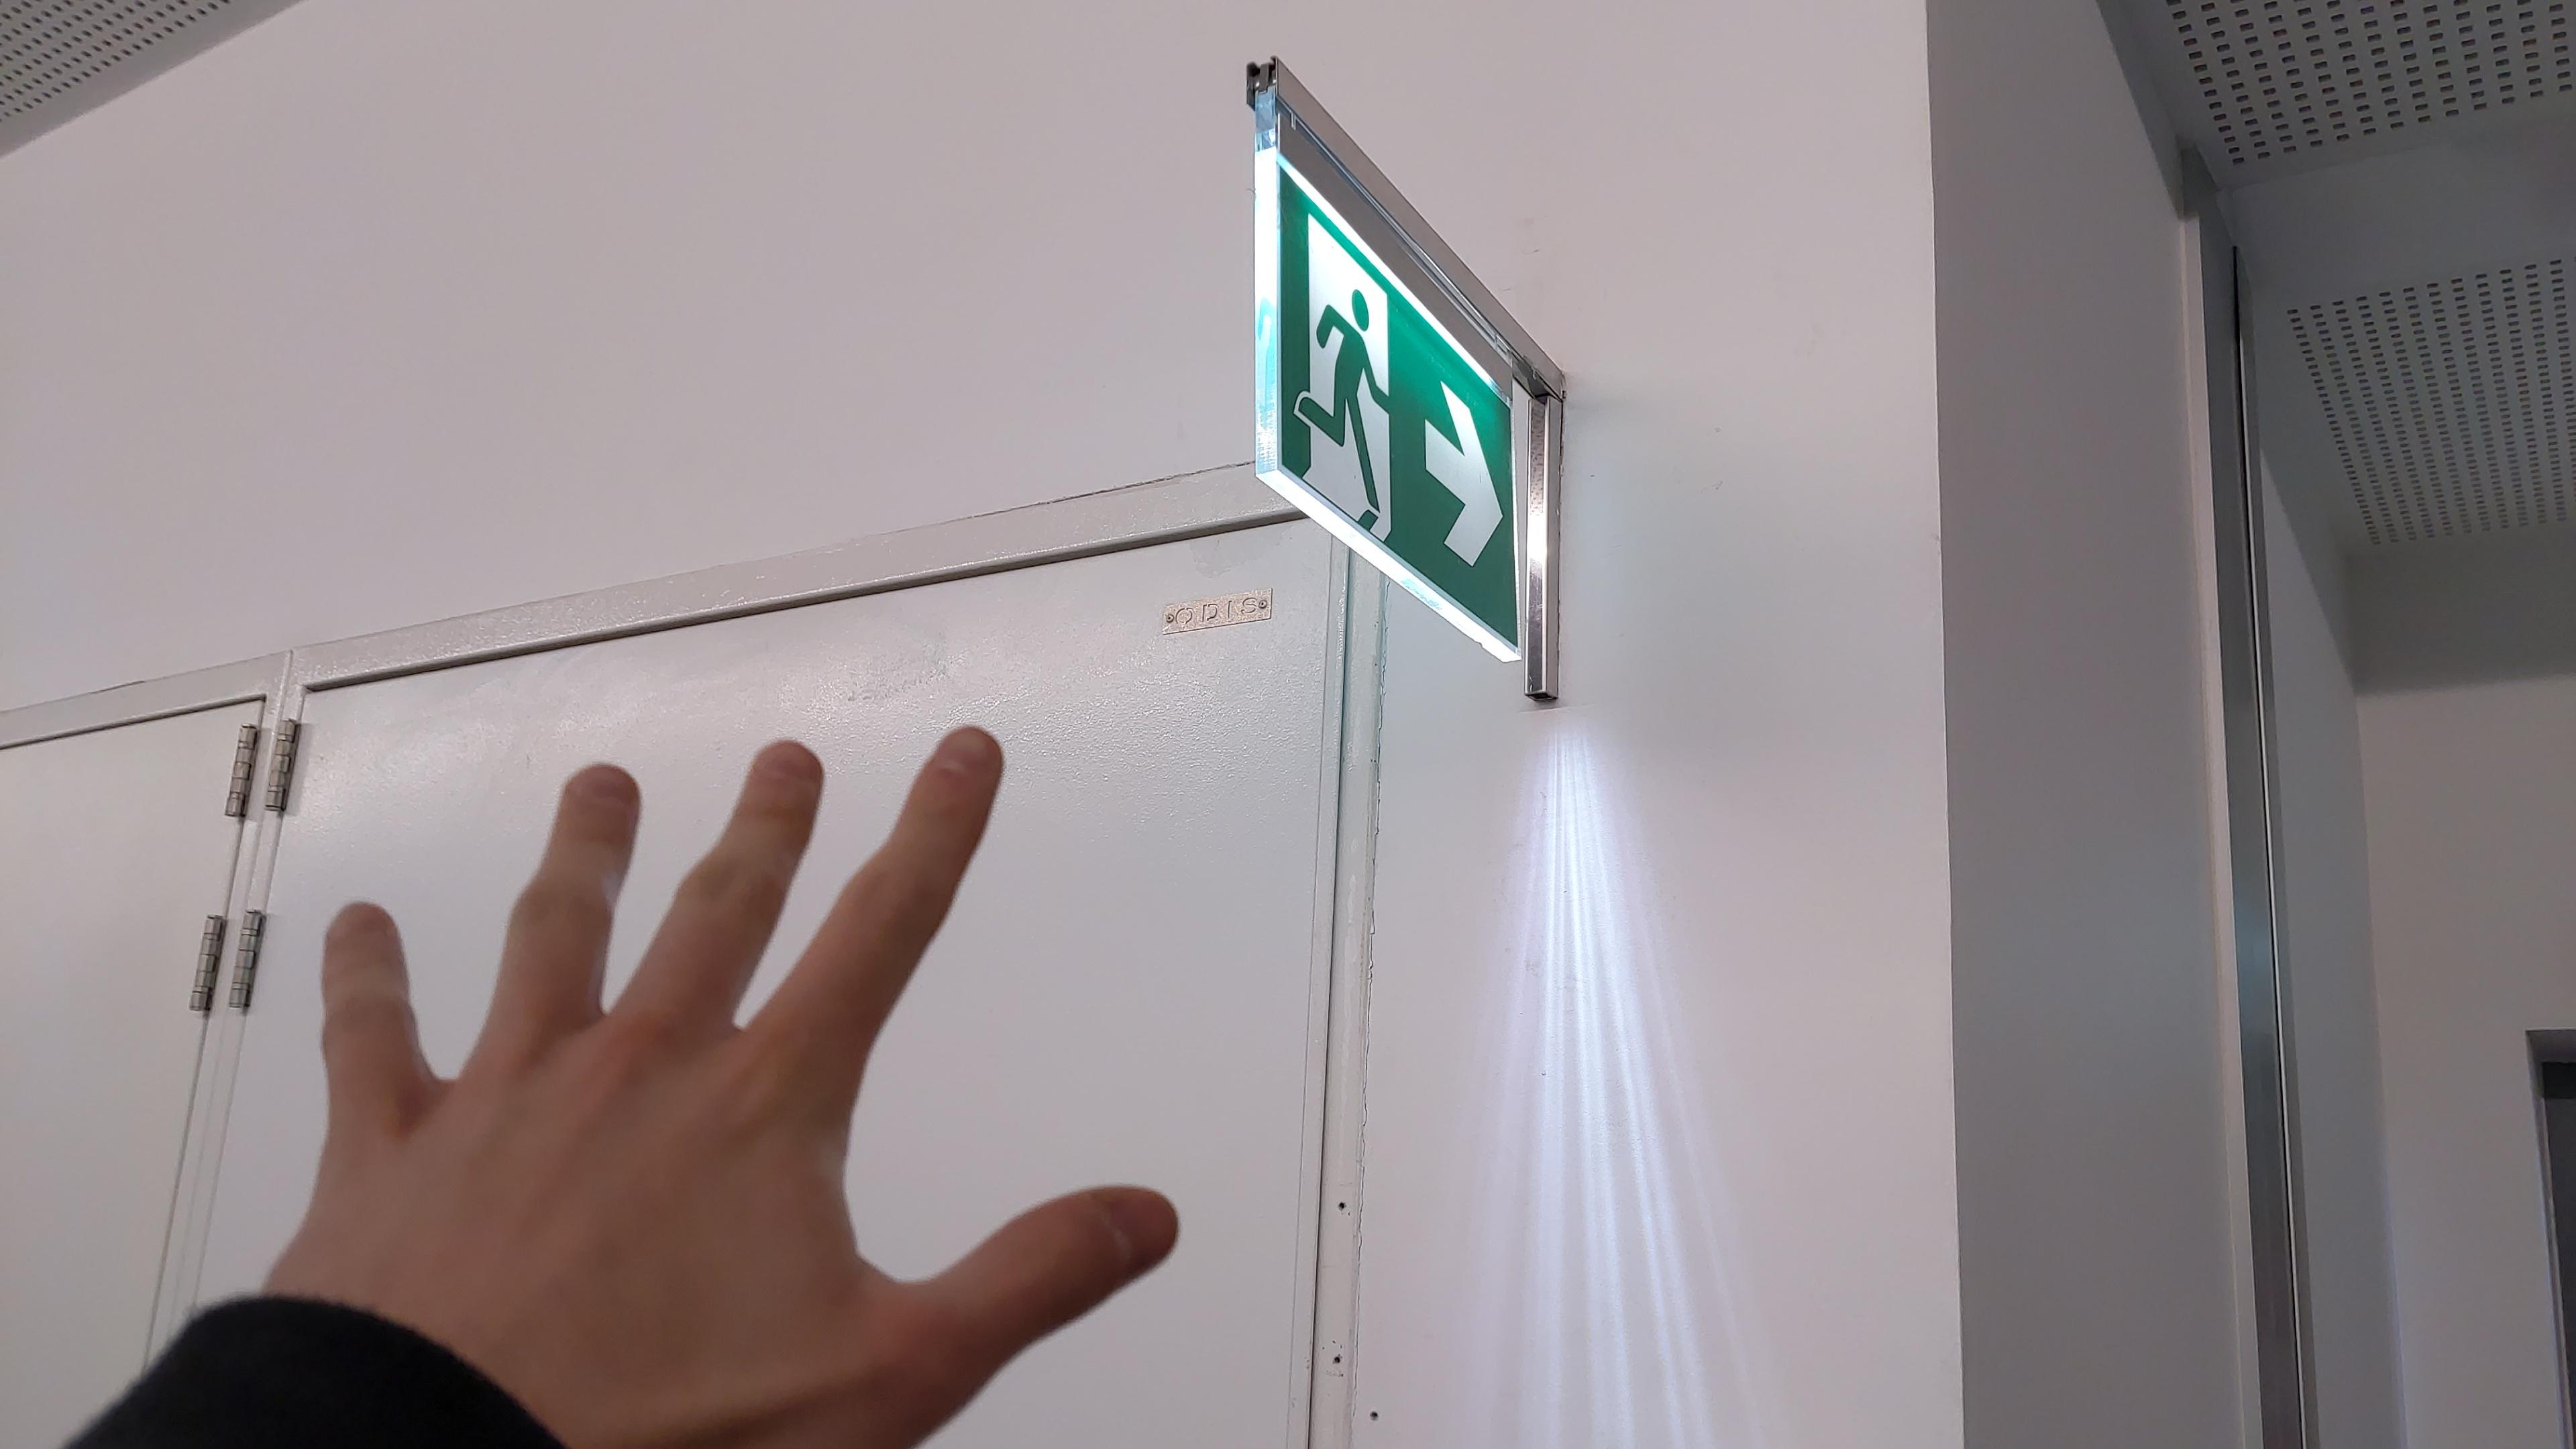emergency exit: (1293, 209, 1399, 552)
emergency right arrow: (1415, 373, 1509, 579)
